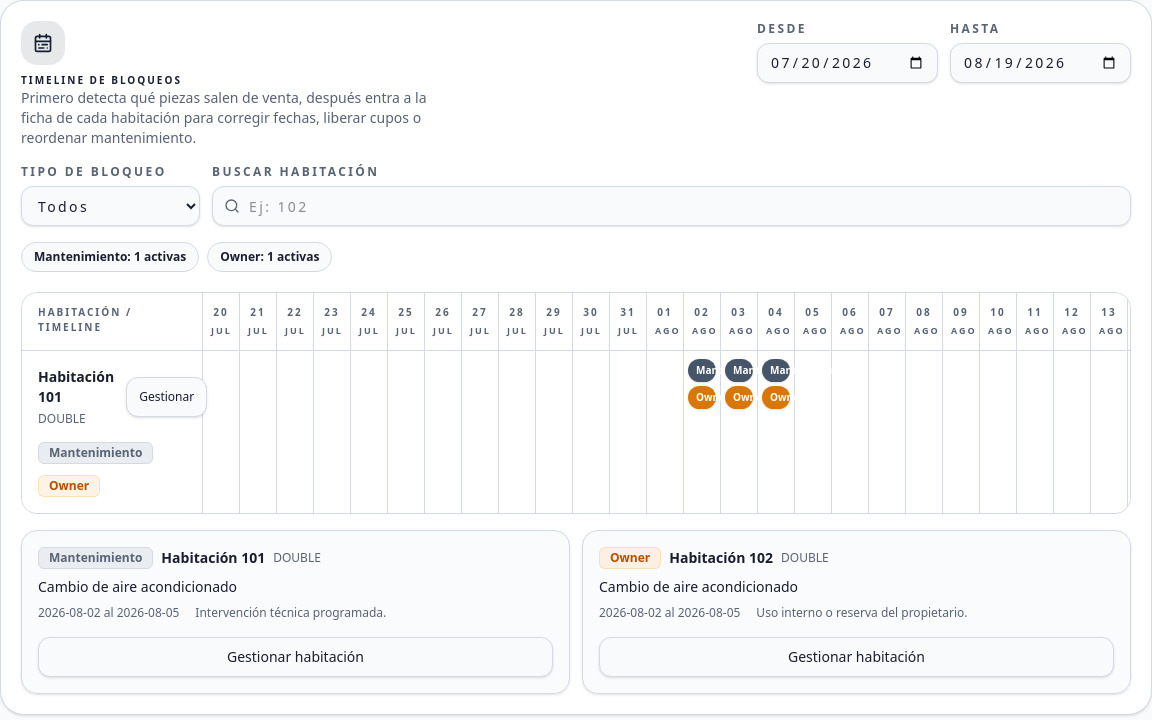
Test: RoomHoldsBoardPanel › filters holds by room number
The image size is (1152, 720).
Type "102" into the search field labelled "Buscar habitación".
click(672, 206); type("102")  # box [212,186,1131,226]
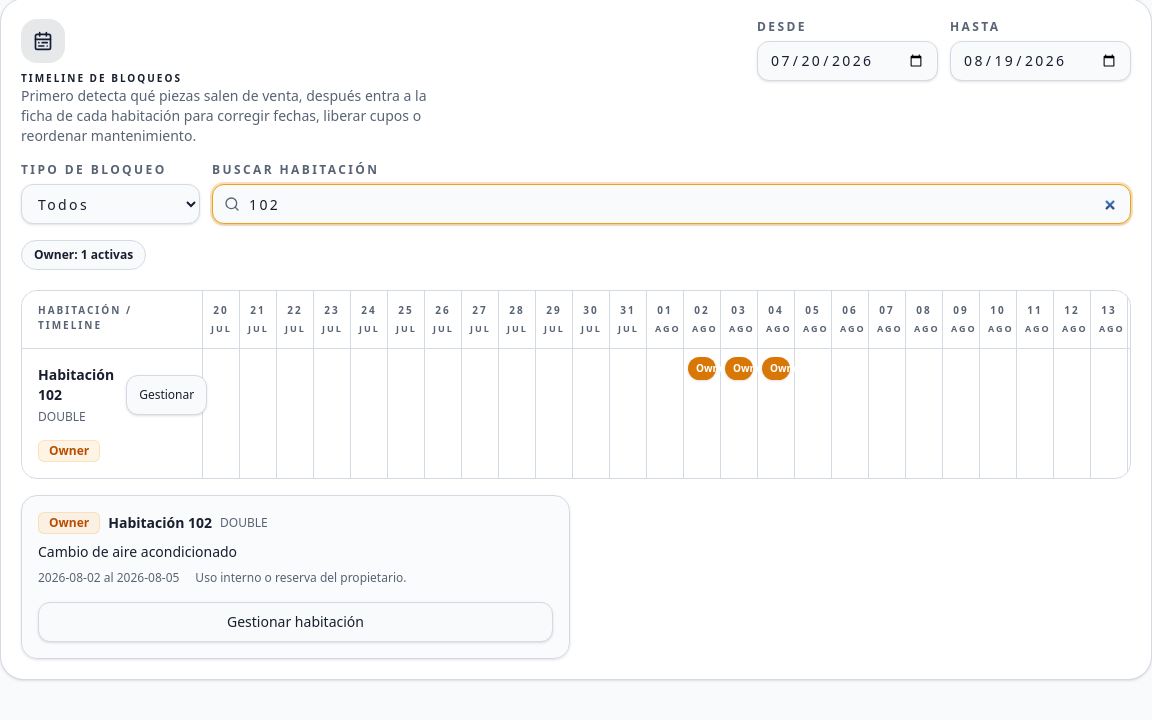
Check: the text "Habitación 101" is not shown
Check: the text "Habitación 102" below "Habitación / timeline" is shown, box [38,364,114,404]
